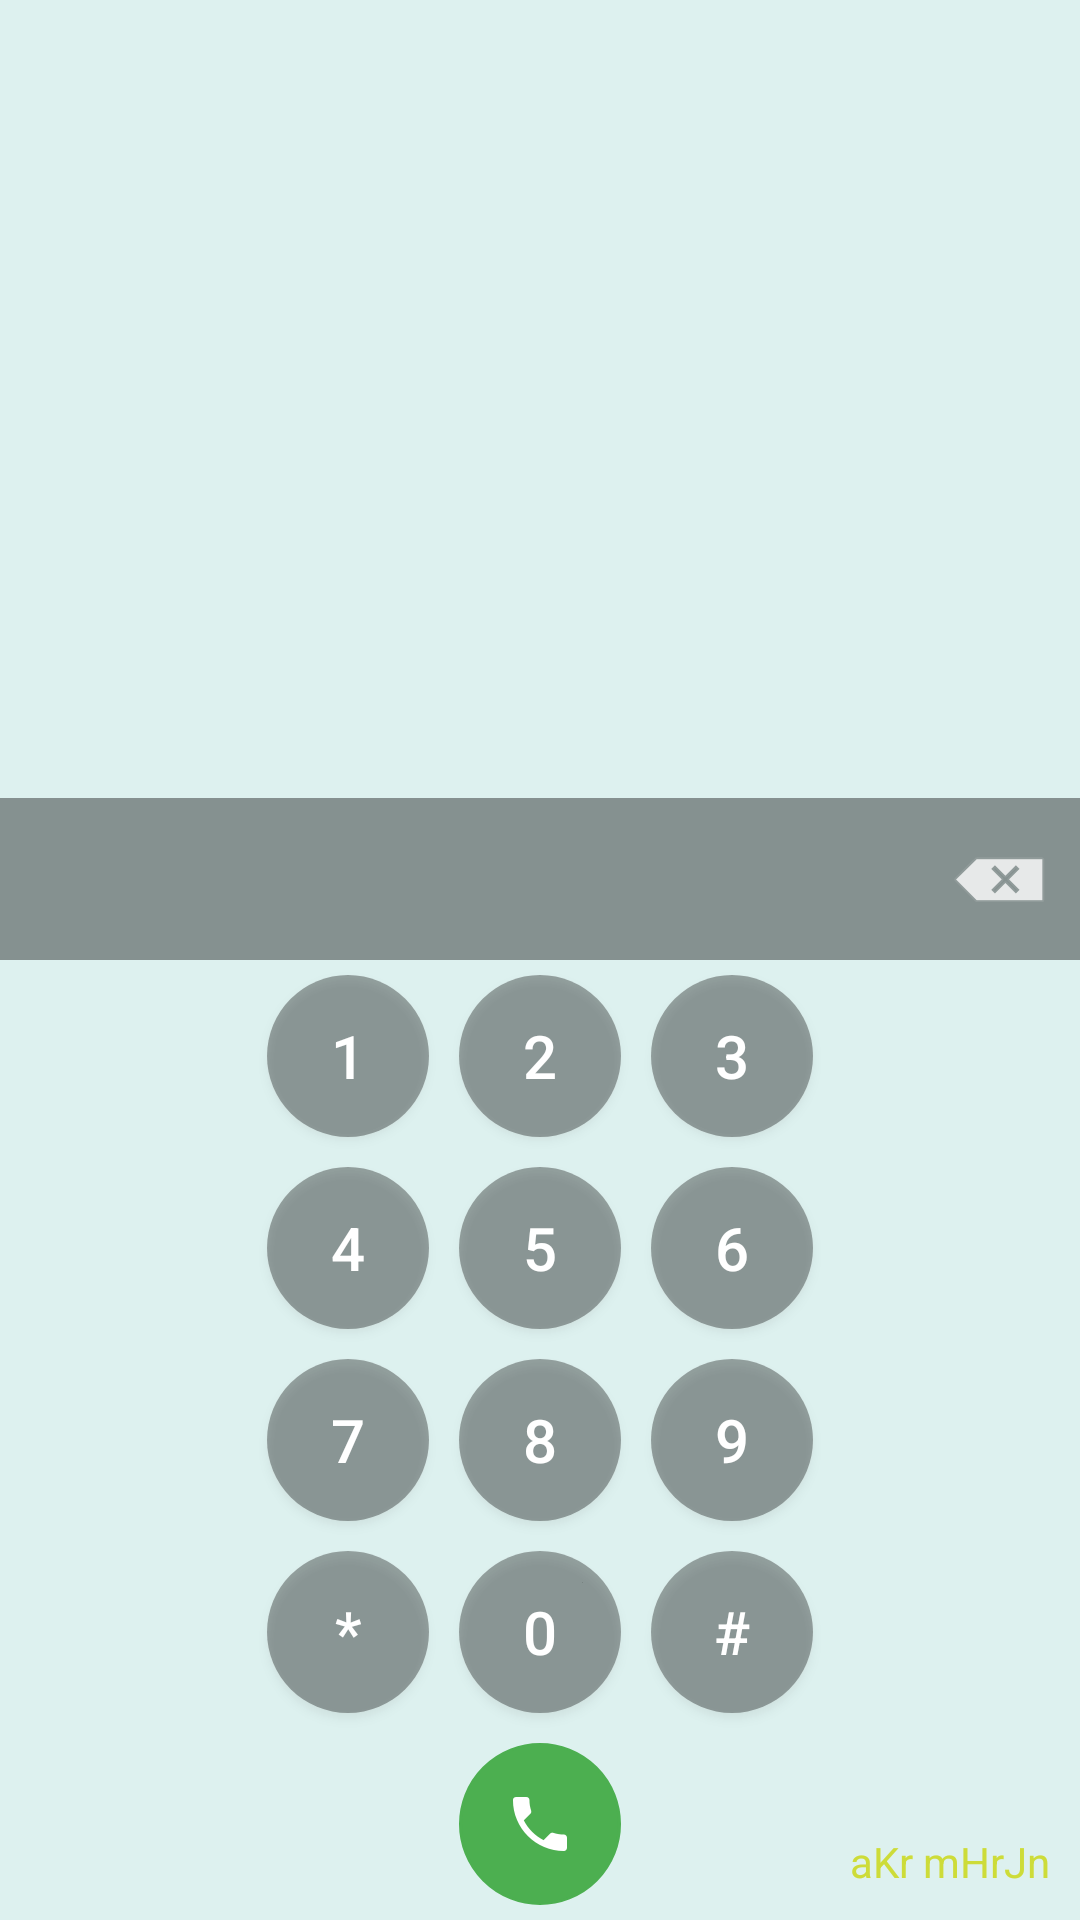

Locate icon controls on the screen. Image size 1080 × 1920, boxes as (x1, y1, x2, y2).
delete: (956, 859, 1043, 901)
phone: (459, 1743, 621, 1905)
